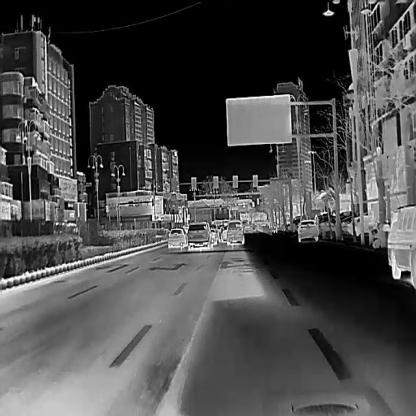car: (384, 204, 415, 288), (186, 220, 209, 247), (297, 219, 318, 241), (226, 219, 244, 243), (168, 227, 187, 248)
